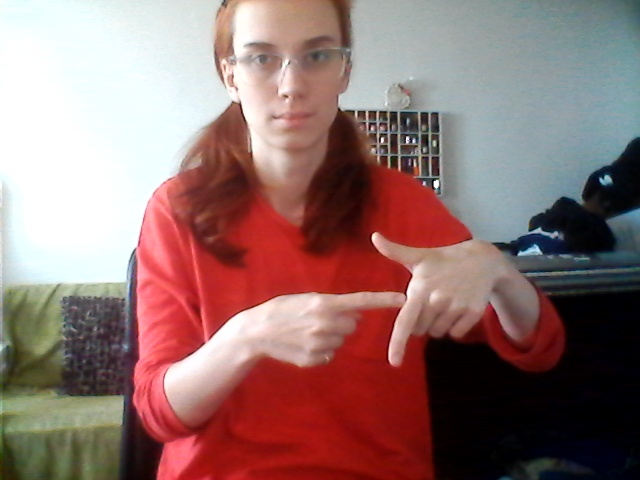f: (264, 226, 491, 386)
